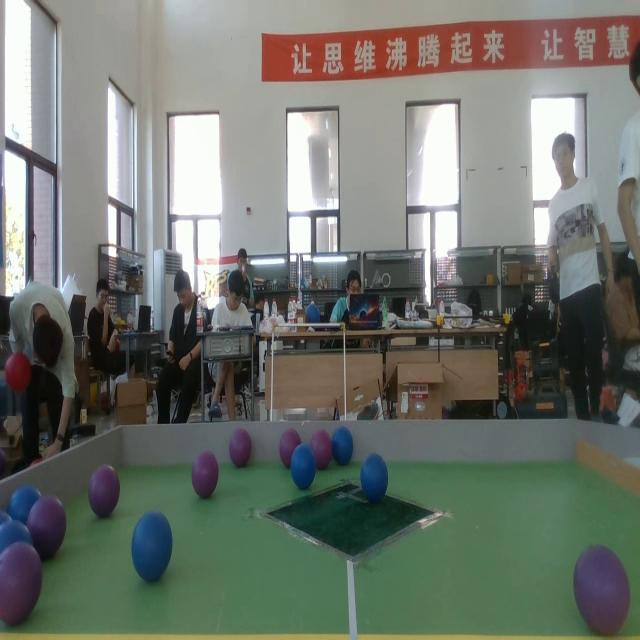blue: (132, 509, 172, 582), (8, 484, 39, 528), (360, 453, 390, 497), (290, 444, 317, 492), (0, 518, 31, 558), (332, 423, 353, 463)
invalid: (574, 540, 631, 640), (0, 540, 42, 622), (32, 494, 63, 560), (89, 463, 124, 520), (190, 446, 219, 498), (226, 425, 254, 471), (280, 424, 300, 464), (313, 429, 329, 462)
